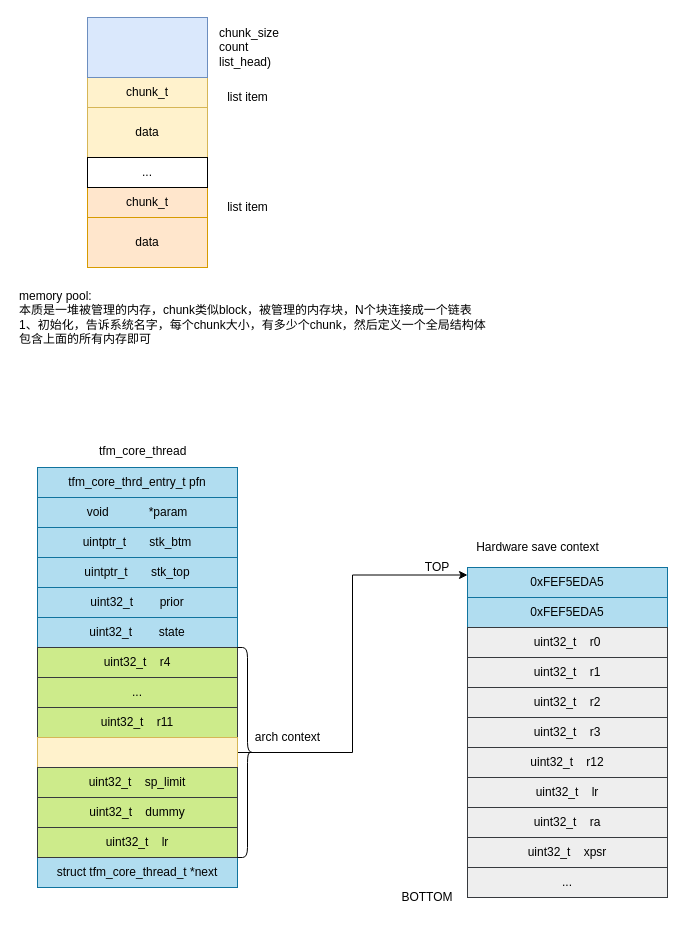
This 685x925 diagram has some shape labels left out. Each missing label, with the box of its shape:
pool_t: (86, 16, 208, 78)
uint32_t sp: (36, 736, 238, 768)
